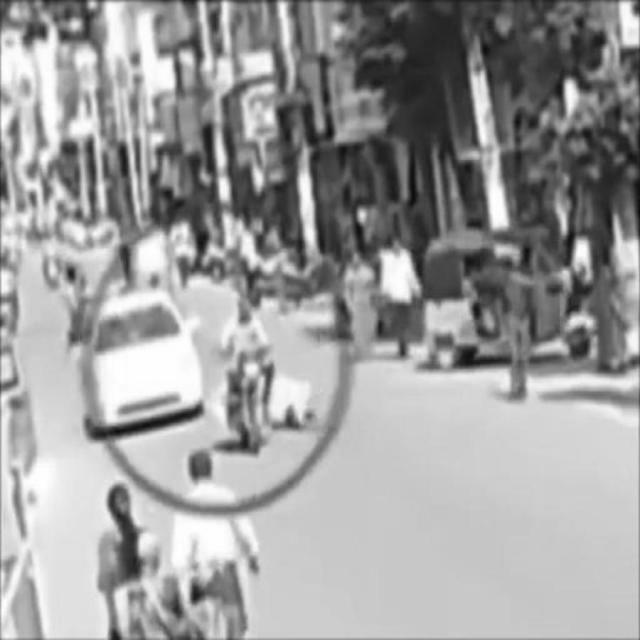vehicle: (428, 239, 588, 371), (92, 290, 206, 440), (229, 294, 277, 448)
